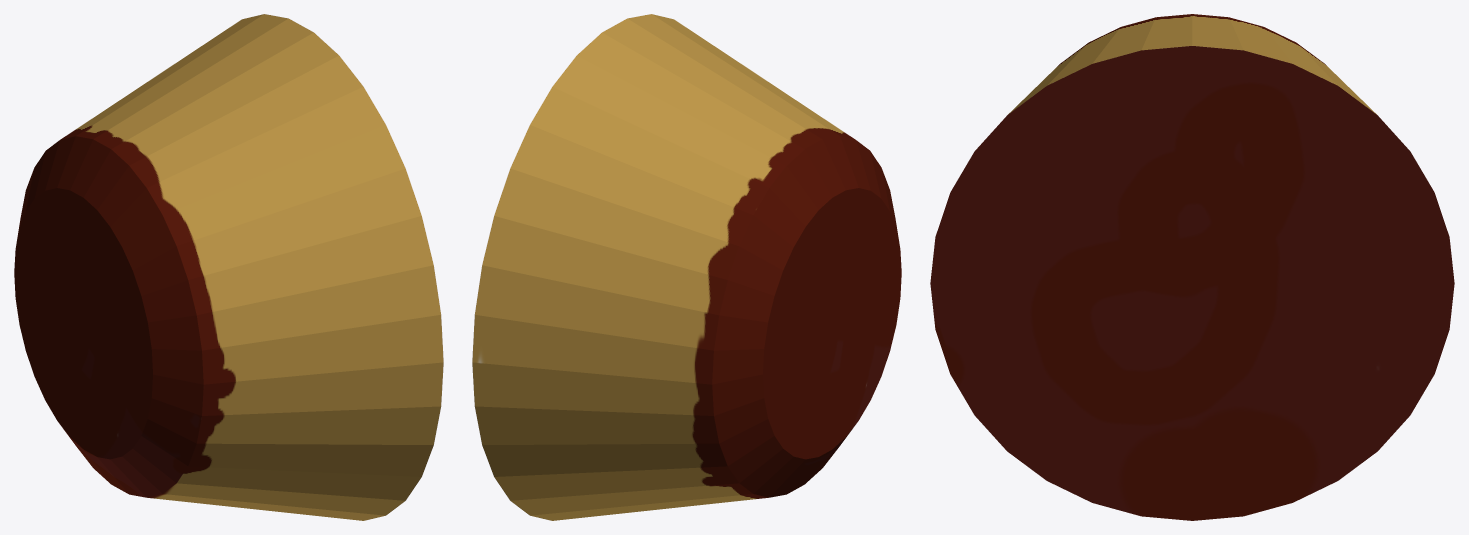
Rendered from purin.fbx.
3 renders of one model, left to right at view 1: azimuth 30°, elevation 25°; view 2: azimuth 150°, elevation 25°; view 3: azimuth 270°, elevation 25°, orthographic.
Visible parts, largest first — view 1: Purin; view 2: Purin; view 3: Purin.
Boxes of the visible parts, x1,y1,x2,y2 form: Purin: (14, 14, 443, 520); Purin: (472, 14, 901, 520); Purin: (930, 14, 1454, 520).
Bounding box in the file's own units: 16069 × 31332 × 31332.
